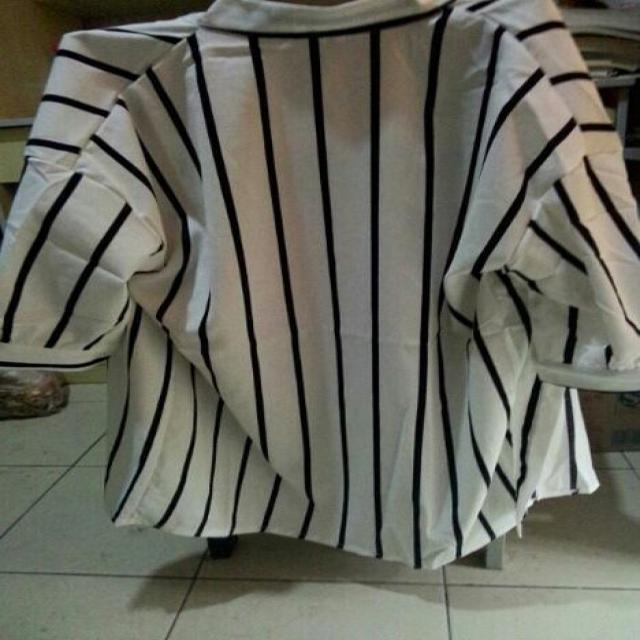long sleeve top: (1, 3, 636, 557)
